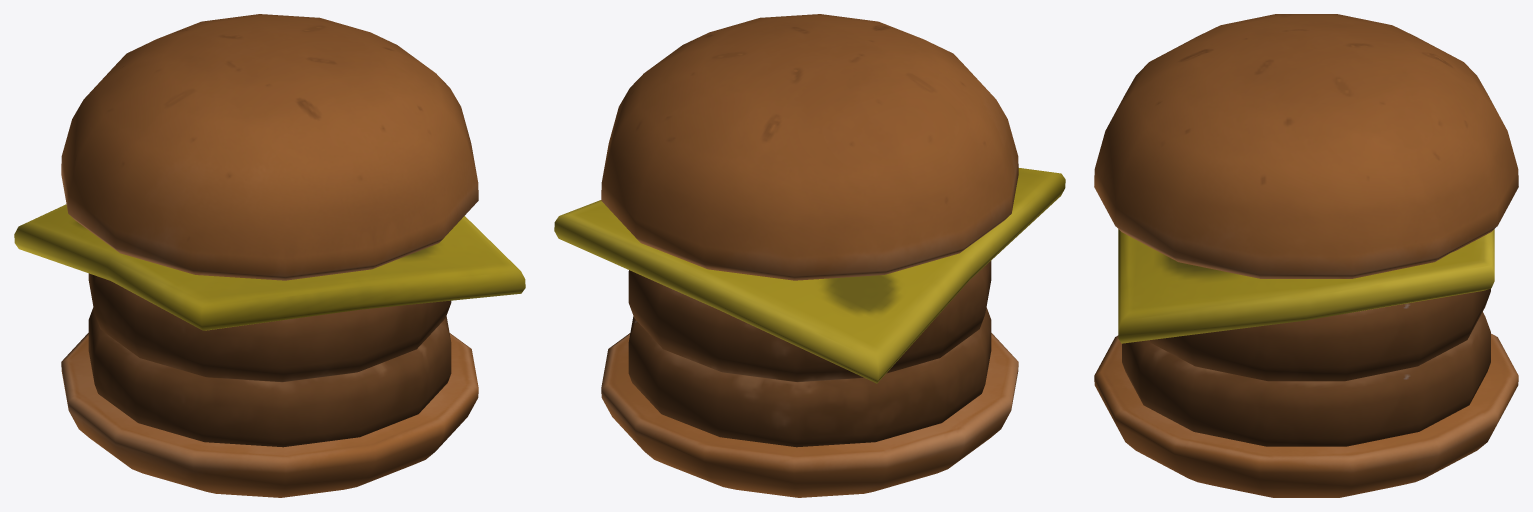
File: MSH_Hamburguesa_P_2C_Q_J.fbx
3 renders of one model, left to right at view 1: azimuth 30°, elevation 25°; view 2: azimuth 150°, elevation 25°; view 3: azimuth 270°, elevation 25°, orthographic.
Visible parts, largest first — view 1: MSH_Hamburguesa_P_2C_Q_J; view 2: MSH_Hamburguesa_P_2C_Q_J; view 3: MSH_Hamburguesa_P_2C_Q_J.
Part boxes in pixels (<box>): MSH_Hamburguesa_P_2C_Q_J: <box>14,14,525,497</box>; MSH_Hamburguesa_P_2C_Q_J: <box>554,14,1065,497</box>; MSH_Hamburguesa_P_2C_Q_J: <box>1094,14,1518,497</box>.
Bounding box in the file's own units: 14.42 × 14.79 × 15.05.
Materials: 1 (1 with a texture image).
